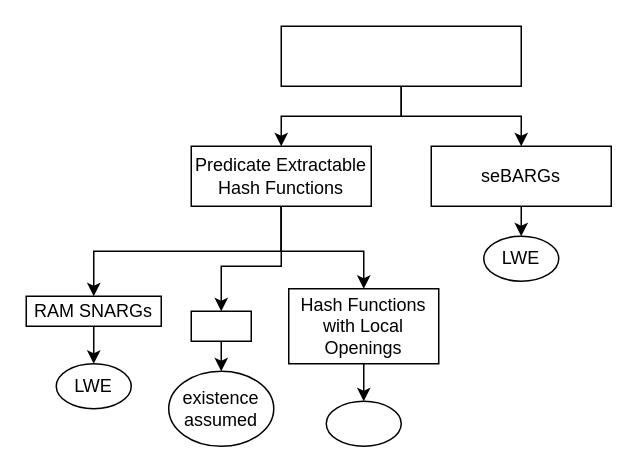
Image size: 638x473. Some labels were removed from this diagram. Each missing label, with the box of its shape:
CRHF: (325, 400, 401, 446)
FHE: (190, 310, 251, 341)
SNARGs for Monotone Policy Batch-NP: (280, 25, 521, 86)
